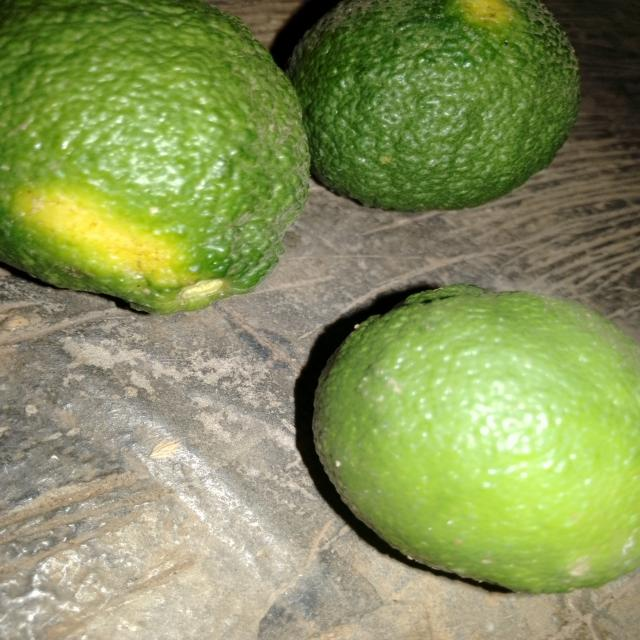Unripe: (291, 272, 640, 603), (0, 0, 326, 322), (275, 0, 593, 222)
